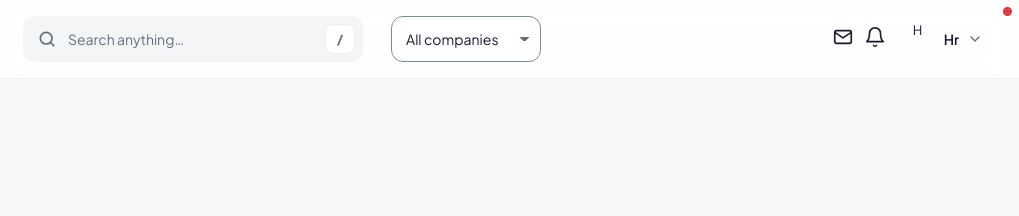
it: the header › finds people, pages and actions as somebody types
Type "Anand" into the dropdown with placeholder "Search anything…" at {"x": 193, "y": 39}, box x1=23 y1=16 x2=363 y2=62
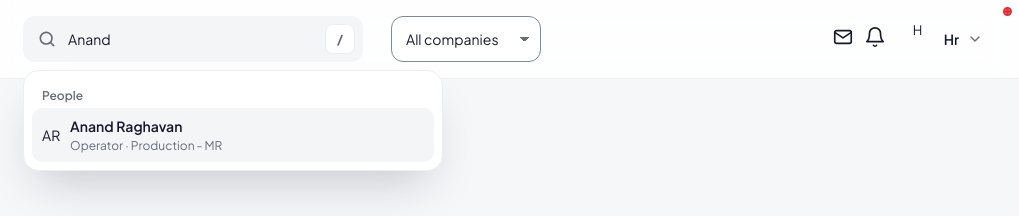
Check: the text "People" is shown, box x1=42 y1=88 x2=83 y2=103
Check: the list with class "search-res" shows "Anand Raghavan", box x1=32 y1=108 x2=434 y2=162
Replace the text in the dropdown named "Search people, pages or actions" with "app punches" at {"x": 193, "y": 39}, box x1=23 y1=16 x2=363 y2=62
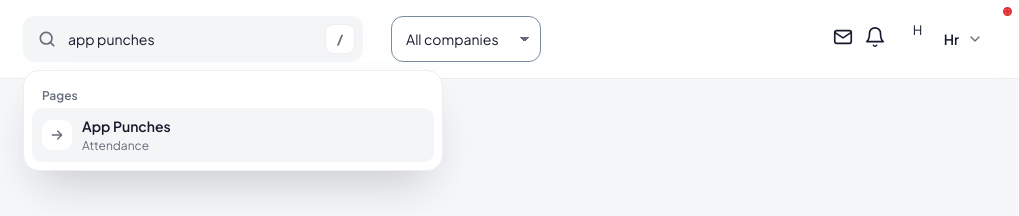
Check: the text "Pages" is shown, box x1=42 y1=88 x2=78 y2=103
Check: the list with class "search-res" shows "App Punches", box x1=32 y1=108 x2=434 y2=162
Replace the text in the dropdown named "Search people, pages or actions" with "sign out" at {"x": 193, "y": 39}, box x1=23 y1=16 x2=363 y2=62
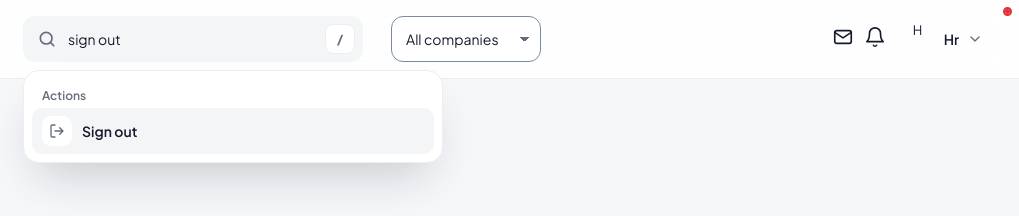
Check: the text "Actions" is shown, box x1=42 y1=88 x2=86 y2=103
